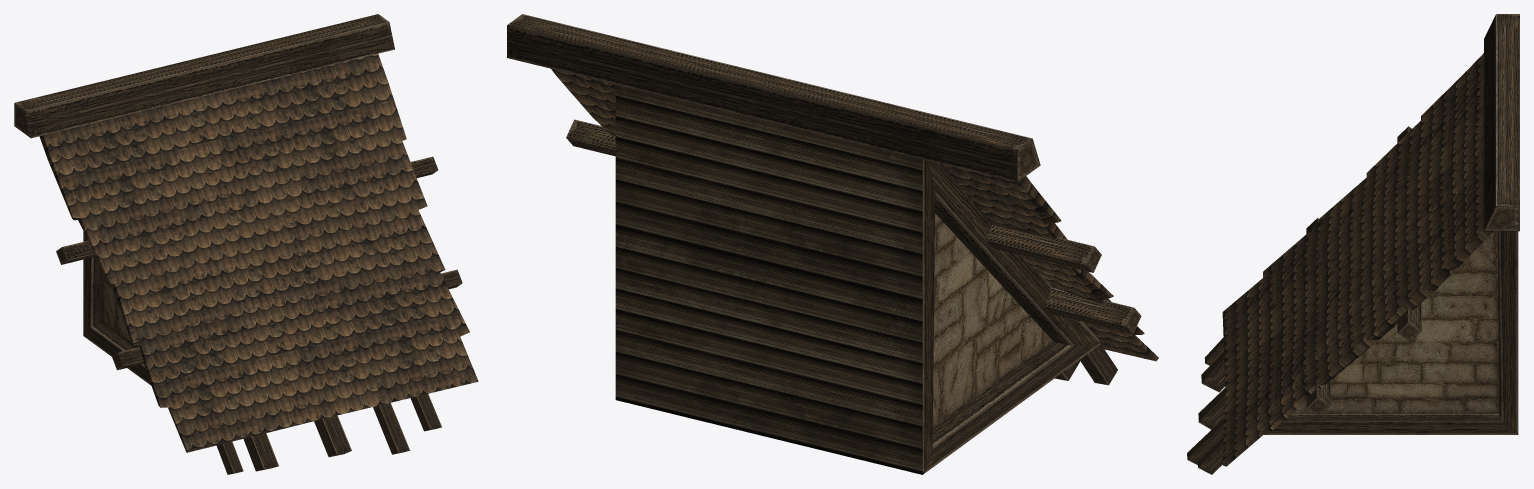
Rendered from Roof_8X8_02b.fbx.
3 views of the same model, side by side, from view 1: azimuth 30°, elevation 25°; view 2: azimuth 150°, elevation 25°; view 3: azimuth 270°, elevation 25° (orthographic). The views are drawn at different scales.
Visible parts, largest first — view 1: Roof_8X8_02b; view 2: Roof_8X8_02b; view 3: Roof_8X8_02b.
Boxes of the visible parts, x1,y1,x2,y2 form: Roof_8X8_02b: [14, 14, 478, 474]; Roof_8X8_02b: [507, 14, 1158, 474]; Roof_8X8_02b: [1187, 14, 1519, 474].
Size of the model in its own units: 13.55 by 10.48 by 9.73.
